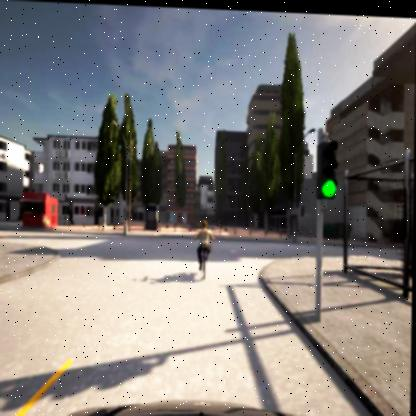bike: (194, 219, 217, 280)
